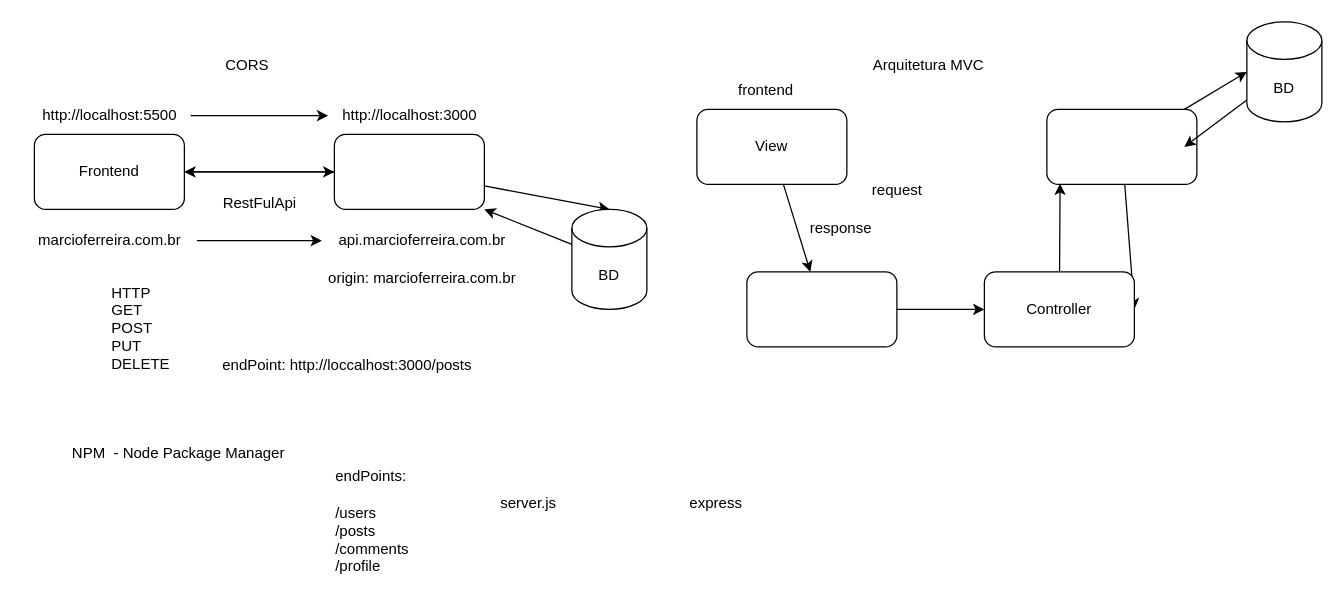
This 1344x606 diagram has some shape labels left out. The shapes that lost their labels are listed below. From the top down, each one's box as (x1, y1, x2, y2) in pixels, then its label:
(1046, 108, 1197, 184): Model
(333, 133, 484, 209): Backend
(746, 271, 897, 347): rotas
